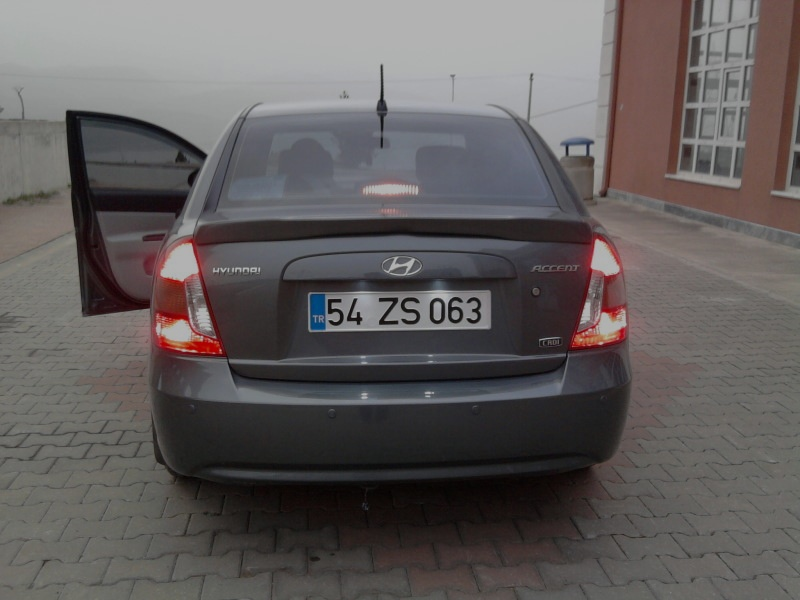plaka: (321, 278, 493, 334)
